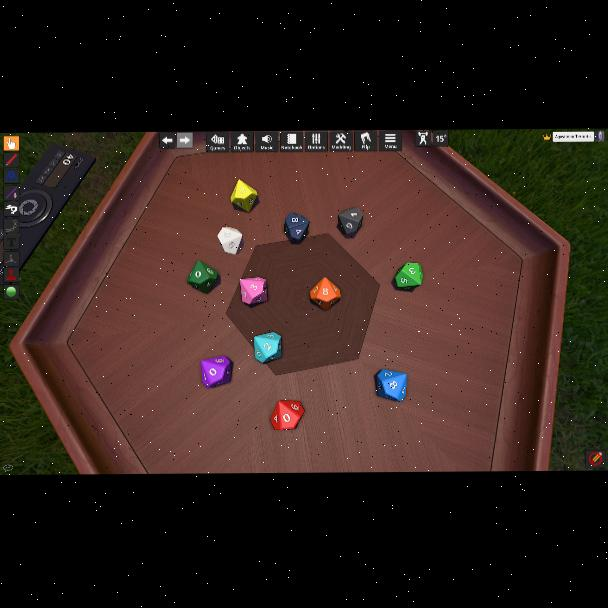d10: (309, 277, 341, 312), (270, 399, 304, 430), (188, 261, 218, 294), (200, 356, 230, 389), (375, 369, 405, 401), (230, 179, 258, 213), (254, 333, 282, 363), (240, 277, 268, 306), (394, 262, 421, 290), (283, 212, 309, 241), (338, 207, 363, 236), (216, 226, 241, 254)
